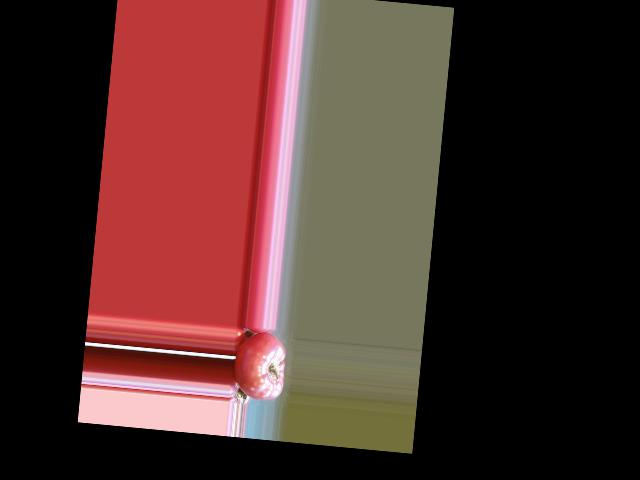tomato: (231, 328, 287, 401)
